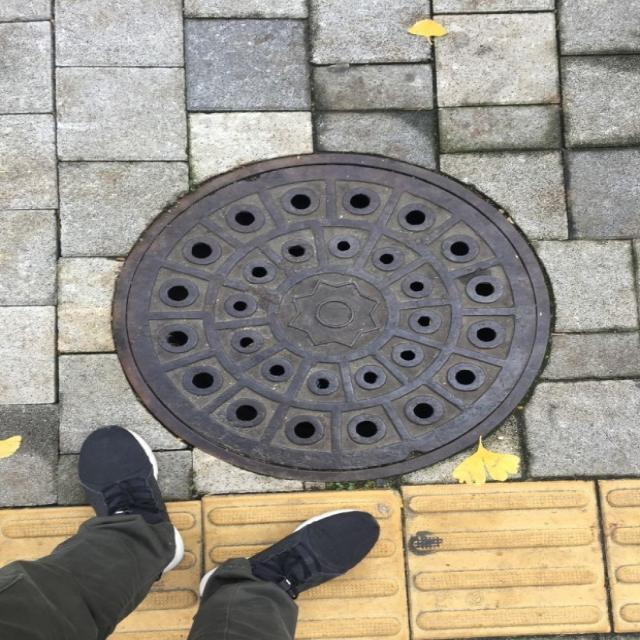manhole: (112, 152, 552, 480)
